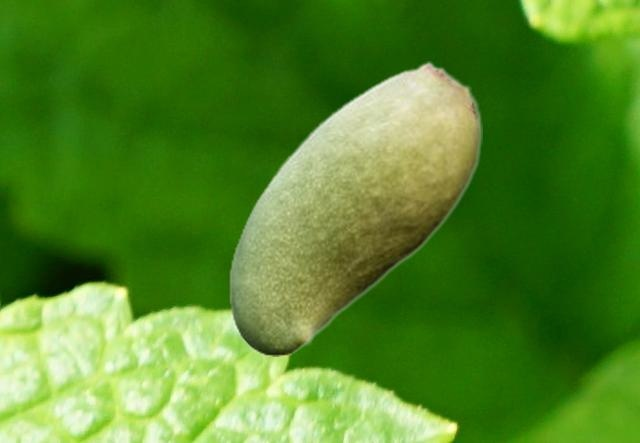green_mango: (228, 61, 481, 355)
